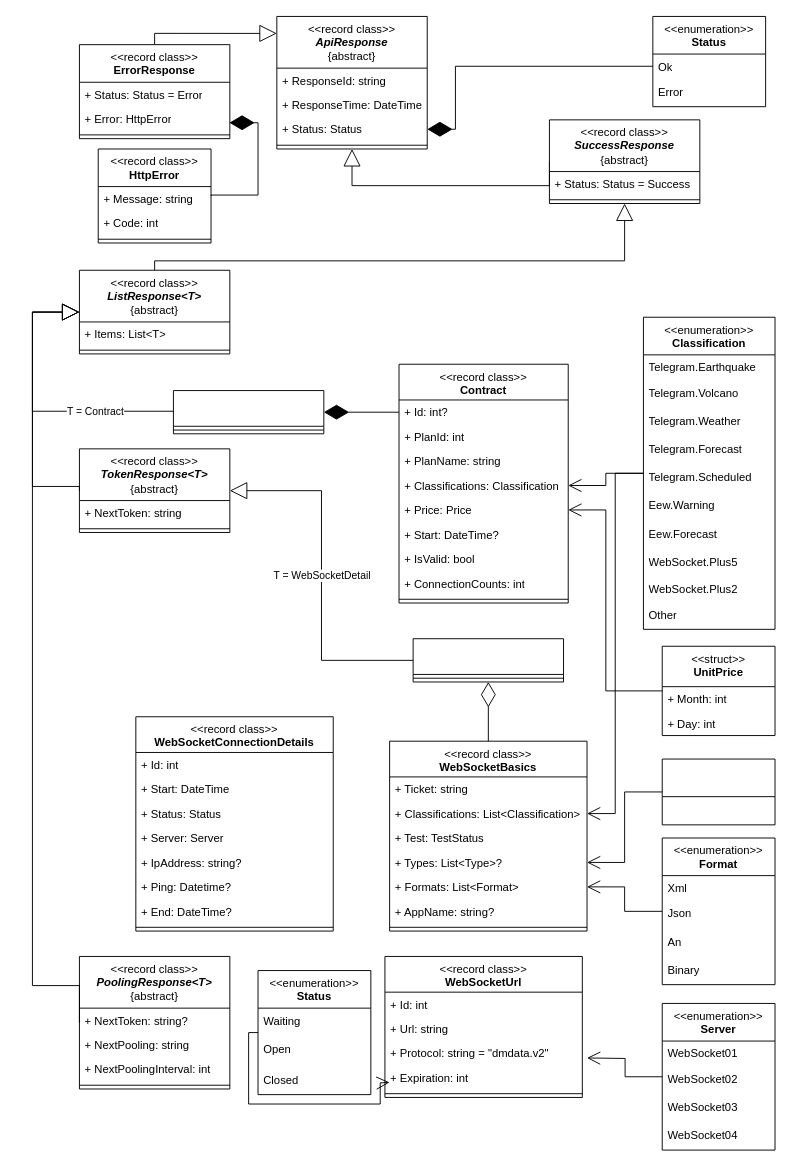
The diagram is 791 pixels wide and 1167 high, and some of its shapes have lost their labels. The shapes that lost their labels are listed below. From the top down, each one's centre as x and y in pixels, then its label:
At [248,412]: "<<record class>> ContractList".
At [488,660]: "<<record class>> WebSocketList".
At [718,791]: "<<enumeration>> Type".
